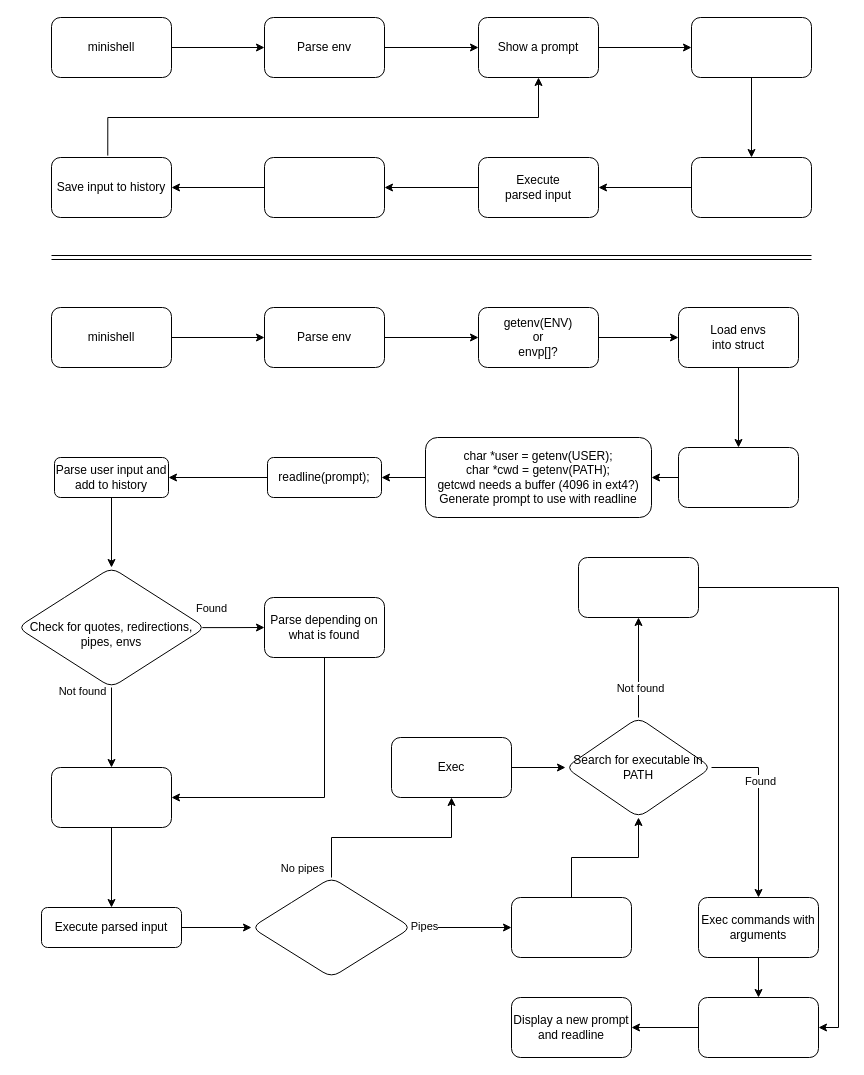
Image size: 864x1075. Some labels were removed from this diagram. The shapes that lost their labels are listed below. From the top down, each one's box as (x1, y1, x2, y2) in pixels, then its label:
(690, 16, 812, 78): Readline (read input from user)
(264, 156, 384, 218): Interpret signals?
(690, 156, 812, 218): Parse user input
(678, 446, 798, 508): Show prompt
(578, 556, 698, 618): Return error
(50, 766, 172, 828): Pass to array of arrays and exec
(250, 876, 412, 978): Look in array of arrays if there's pipes
(510, 896, 632, 958): Fork and exec
(698, 996, 818, 1058): Record signal in global variable
